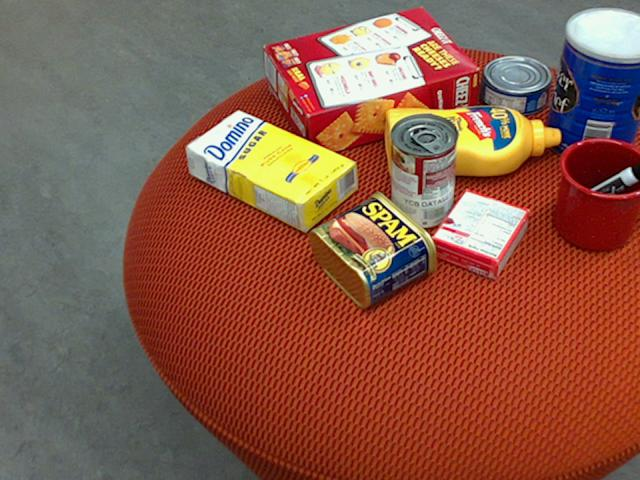cracker_box: (262, 6, 478, 157)
gelatin_box: (429, 190, 531, 281)
large_marker: (556, 159, 639, 220)
master_chef_can: (542, 7, 639, 165)
mug: (553, 136, 639, 250)
mustard_bottle: (384, 106, 559, 179)
potted_meat_can: (308, 190, 436, 308)
sugar_box: (183, 108, 356, 233)
tomato_soup_can: (389, 111, 456, 228)
tuna_fish_can: (477, 55, 550, 114)
